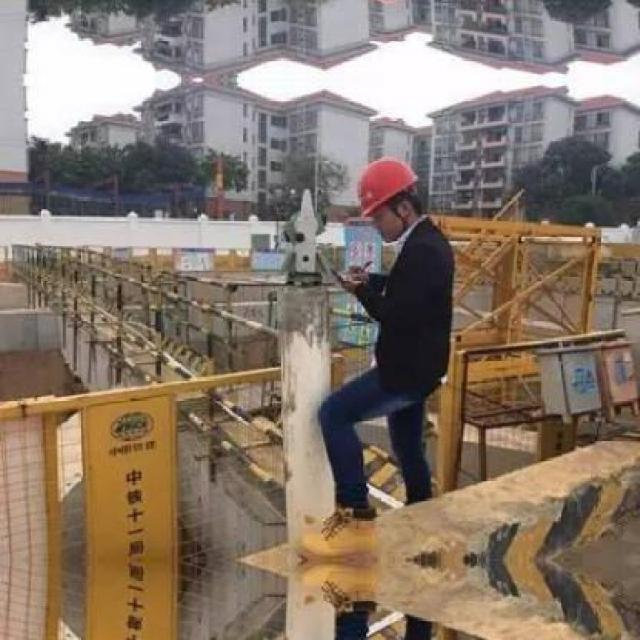helmet: (346, 148, 426, 237)
